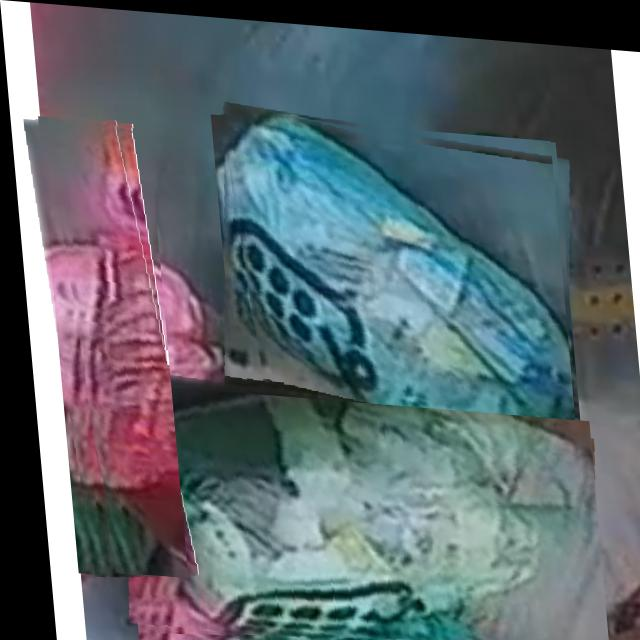general_trashbag: (123, 392, 588, 635), (225, 111, 569, 438)
other_trashbag: (83, 126, 176, 566)
